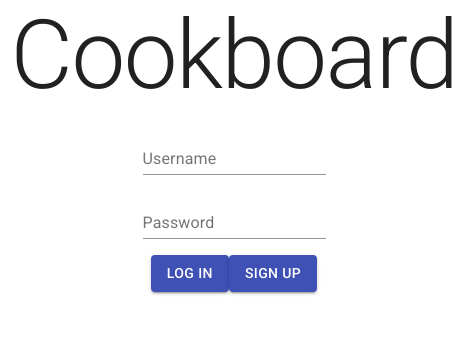
Scenario: tests for LoginWindow. › With no user credentials stored › if the username and password are blank and the log in button is clicked, then their error messages appear
The image size is (469, 364).
Click the button with test id "buttonLogin" at (190,273), box [151,255,229,292]
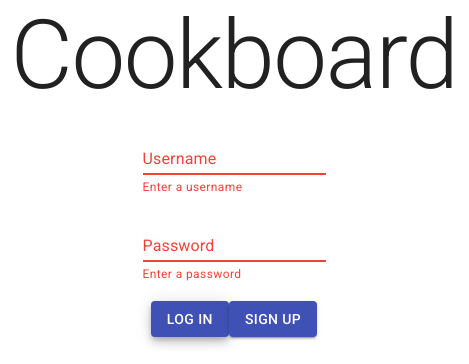
Expected: the text "Enter a password" is shown, [142,267,241,281]
Expected: the text "Enter a username" is shown, [142,180,242,194]
